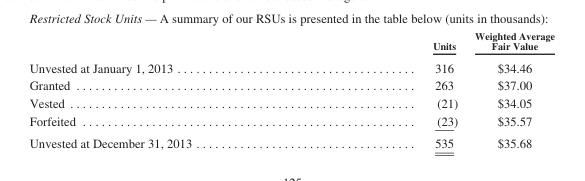table: (28, 29, 553, 150)
table column: (28, 29, 311, 150), (311, 29, 465, 150), (465, 29, 553, 150)
table column header: (28, 29, 553, 55)
table row: (28, 29, 553, 55), (28, 55, 553, 76), (28, 111, 553, 131), (28, 131, 553, 150), (28, 93, 553, 111), (28, 76, 553, 93)
